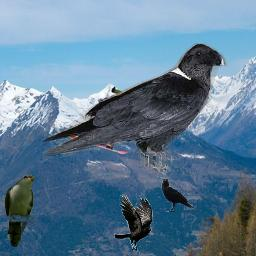Crow: (38, 43, 228, 178), (114, 194, 153, 253), (161, 178, 195, 212)
Cuckoo: (4, 174, 35, 247)
